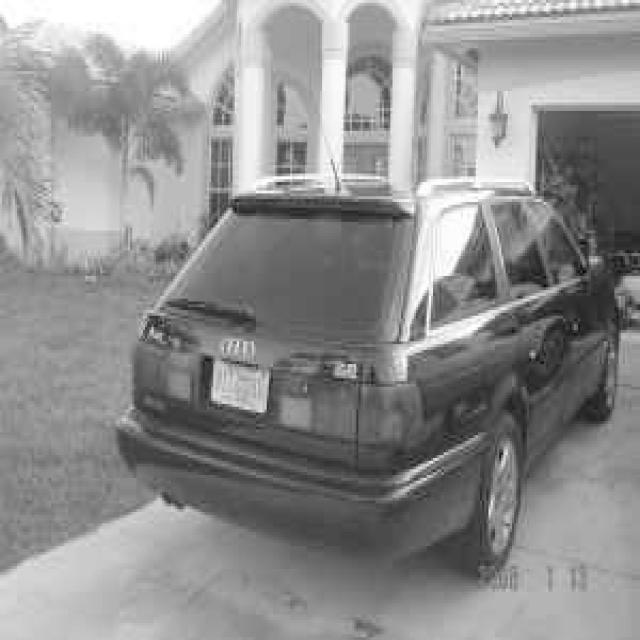car: (113, 168, 619, 569)
